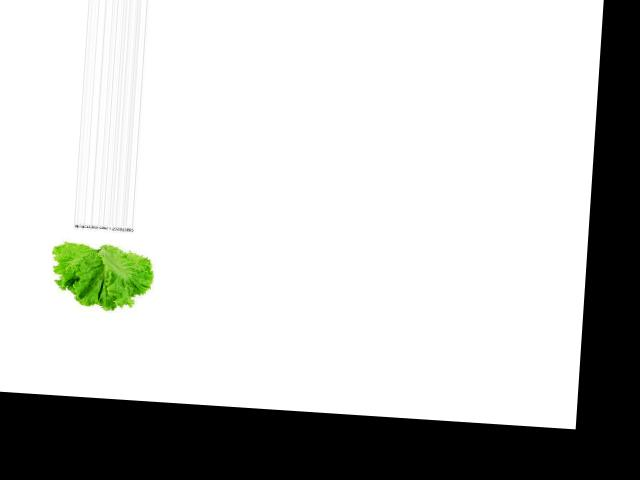lettuce: (48, 228, 158, 314)
